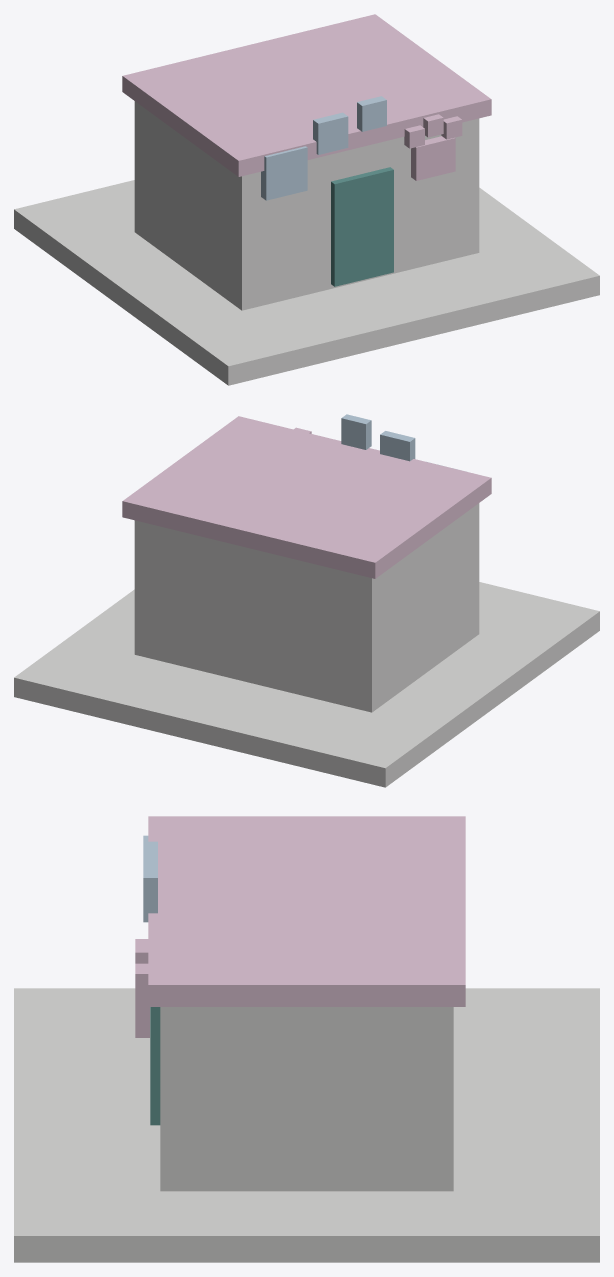
File: grooming.gltf
The picture shows the model from 3 angles, top to bottom: view 1: azimuth 30°, elevation 25°; view 2: azimuth 150°, elevation 25°; view 3: azimuth 270°, elevation 25°; orthographic projection. The views are drawn at different scales.
Parts seen in each view (by area): view 1: grooming_0, grooming_1, grooming_2, grooming_3, grooming_4, grooming_7, grooming_5, grooming_6; view 2: grooming_1, grooming_0, grooming_2, grooming_6, grooming_5; view 3: grooming_0, grooming_2, grooming_1, grooming_3, grooming_6, grooming_7.
Boxes of the visible parts, <box> form: grooming_0: <box>14,180,599,385</box>; grooming_1: <box>134,101,479,310</box>; grooming_2: <box>122,14,491,176</box>; grooming_3: <box>331,167,393,286</box>; grooming_4: <box>261,146,307,200</box>; grooming_7: <box>411,136,455,180</box>; grooming_5: <box>313,112,348,154</box>; grooming_6: <box>357,96,386,131</box>; grooming_1: <box>134,503,479,712</box>; grooming_0: <box>14,582,599,787</box>; grooming_2: <box>122,416,491,578</box>; grooming_6: <box>341,414,371,449</box>; grooming_5: <box>380,431,415,461</box>; grooming_0: <box>14,988,599,1262</box>; grooming_2: <box>148,816,465,1006</box>; grooming_1: <box>160,1007,453,1191</box>; grooming_3: <box>150,1007,160,1125</box>; grooming_6: <box>143,861,157,913</box>; grooming_7: <box>135,996,149,1037</box>.
Bounding box in the file's own units: 7.2 × 3.72 × 7.2.
